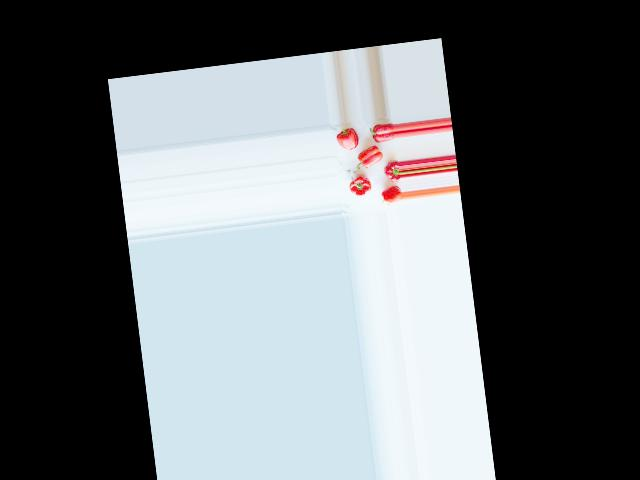bell_pepper: (381, 159, 400, 182)
